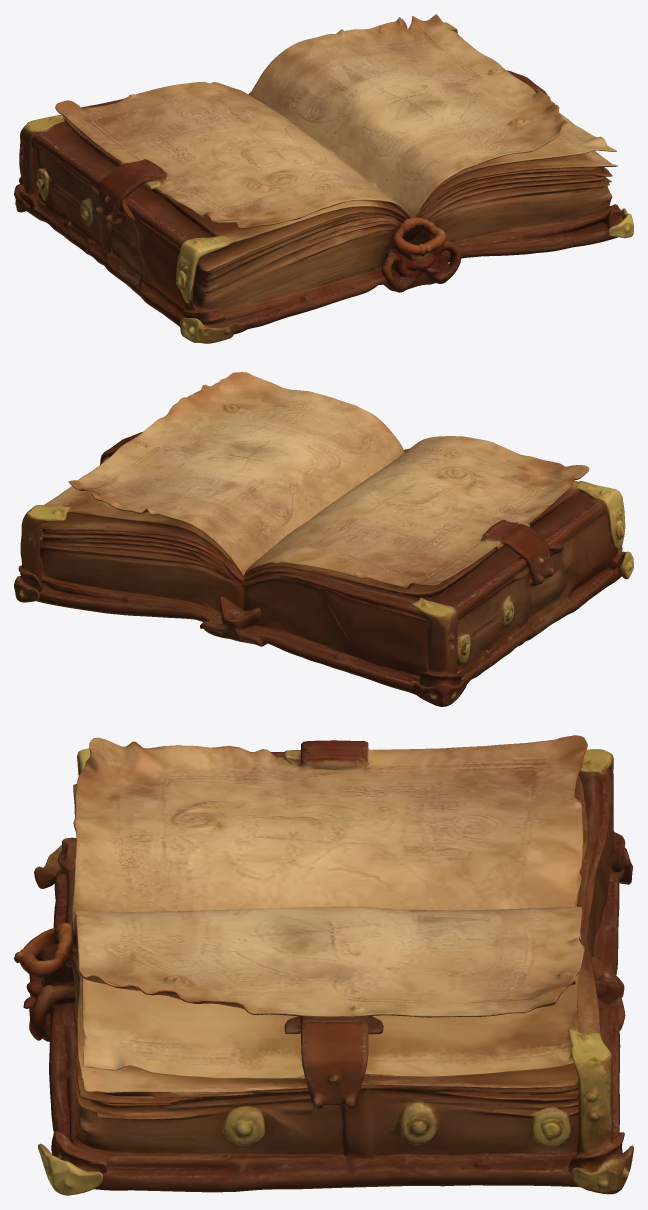
The model's file is spellbook.glb.
The picture shows the model from 3 angles, top to bottom: view 1: azimuth 30°, elevation 25°; view 2: azimuth 150°, elevation 25°; view 3: azimuth 270°, elevation 25°; orthographic projection. The views are drawn at different scales.
Parts seen in each view (by area): view 1: tripo_node_75c7a098-be03-483b-8b7c-460a90b1a8e3; view 2: tripo_node_75c7a098-be03-483b-8b7c-460a90b1a8e3; view 3: tripo_node_75c7a098-be03-483b-8b7c-460a90b1a8e3.
Boxes of the visible parts, left/top/right/bottom form: tripo_node_75c7a098-be03-483b-8b7c-460a90b1a8e3: left=14, top=14, right=633, bottom=343; tripo_node_75c7a098-be03-483b-8b7c-460a90b1a8e3: left=14, top=372, right=633, bottom=706; tripo_node_75c7a098-be03-483b-8b7c-460a90b1a8e3: left=14, top=735, right=633, bottom=1195.
Bounding box in the file's own units: 0.9808 × 0.2539 × 0.7747.
1 material, 1 textured.
